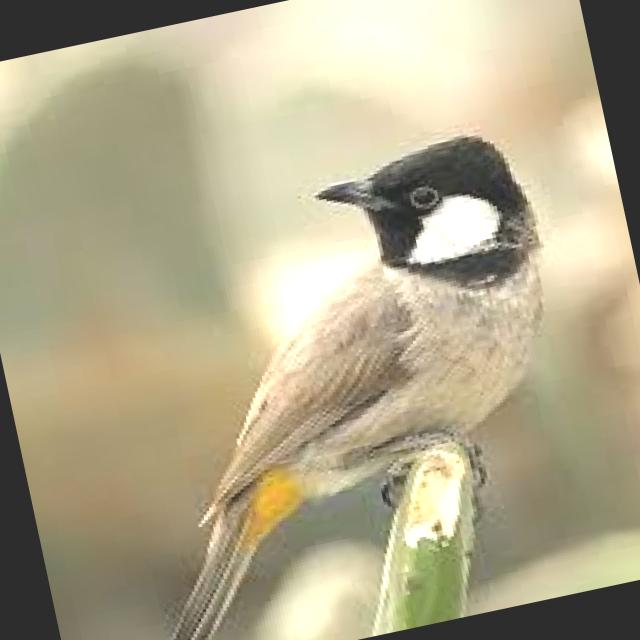bird: (52, 117, 619, 640)
